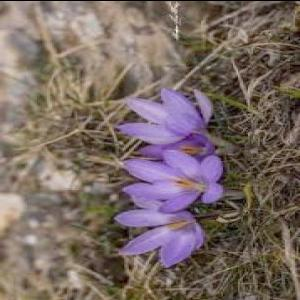Saffron: (115, 194, 207, 264), (116, 87, 215, 151), (121, 153, 221, 210)
